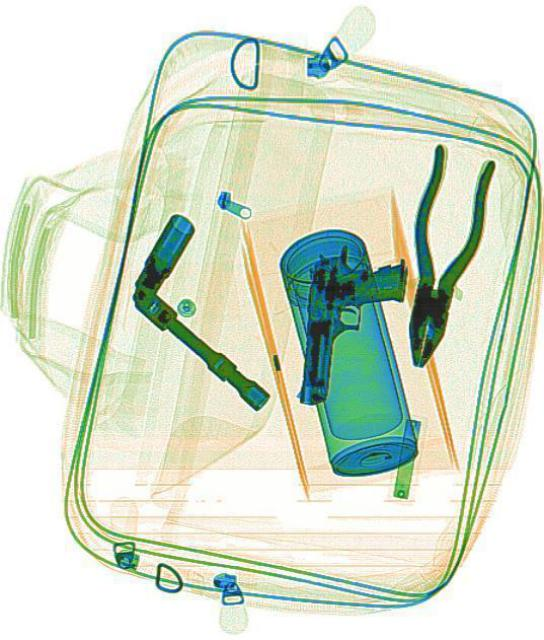Gun: (294, 238, 408, 416)
Pliers: (379, 140, 496, 374)
